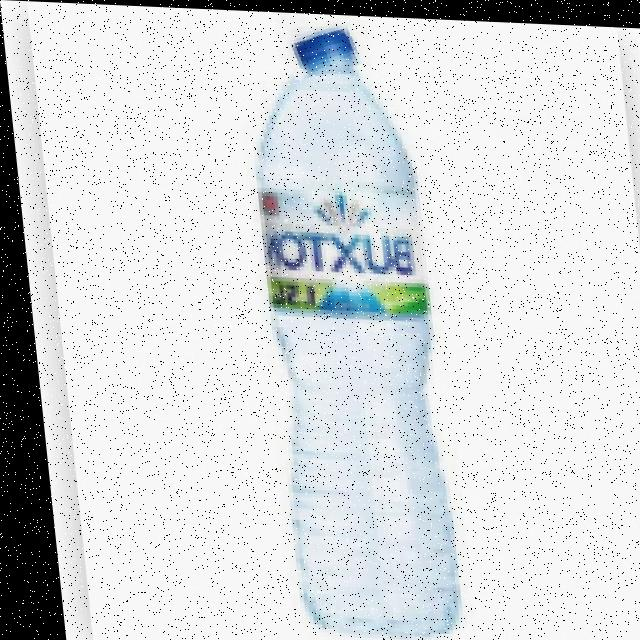litter: (278, 13, 367, 75)
